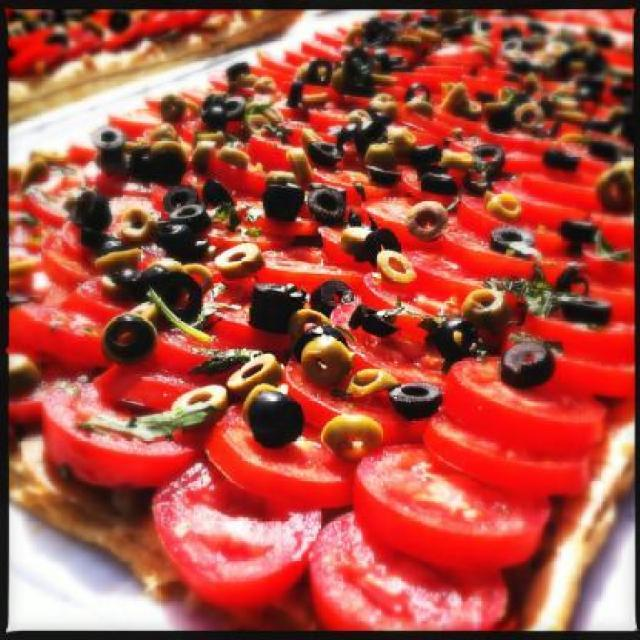Tomato: (6, 9, 640, 634), (432, 351, 611, 447)
